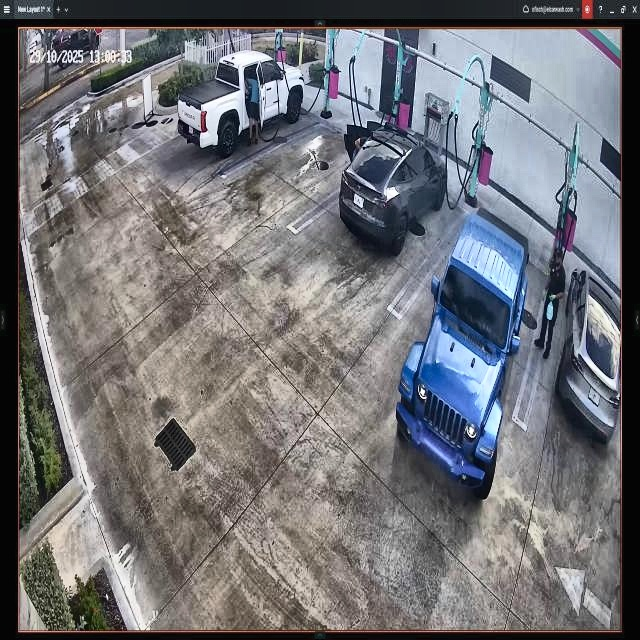Car: (397, 206, 528, 499), (344, 121, 446, 245), (180, 52, 303, 152)
